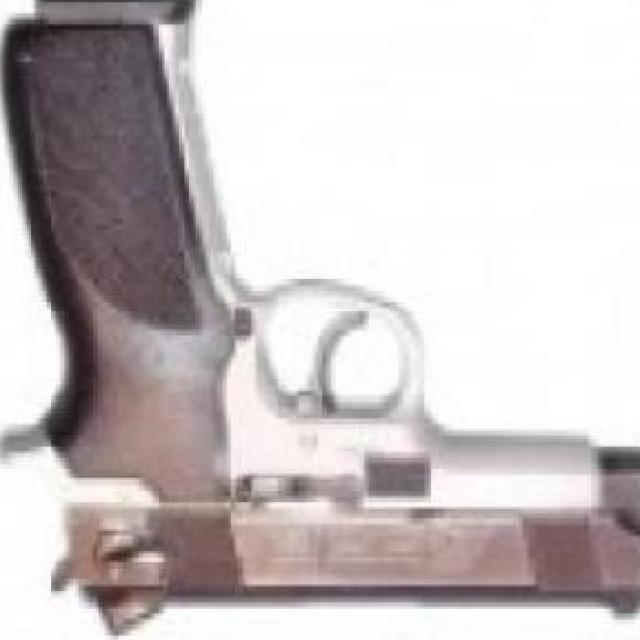pistol: (7, 0, 640, 629)
